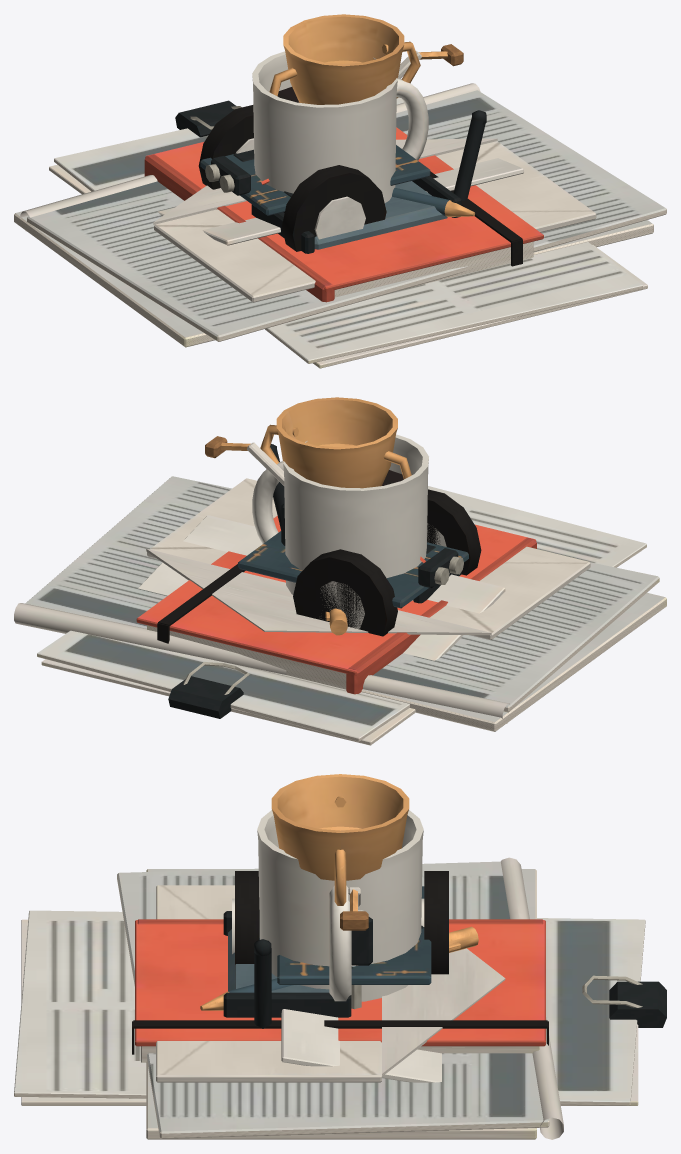
File: story-props.glb
The picture shows the model from 3 angles, top to bottom: view 1: azimuth 30°, elevation 25°; view 2: azimuth 150°, elevation 25°; view 3: azimuth 270°, elevation 25°; orthographic projection. The views are drawn at different scales.
Parts seen in each view (by area): view 1: prop-newspaper, prop-journal-paper, prop-notebook, prop-envelope, prop-mug, prop-robot, prop-trophy, prop-sdr; view 2: prop-newspaper, prop-journal-paper, prop-envelope, prop-notebook, prop-mug, prop-robot, prop-trophy, prop-sdr; view 3: prop-journal-paper, prop-newspaper, prop-notebook, prop-envelope, prop-mug, prop-trophy, prop-robot, prop-sdr.
Part boxes in pixels (x1,y1,x2,y2): prop-newspaper: (14, 83, 666, 347); prop-journal-paper: (49, 97, 647, 368); prop-notebook: (144, 127, 543, 302); prop-envelope: (153, 138, 596, 302); prop-mug: (252, 51, 428, 202); prop-robot: (198, 44, 463, 251); prop-trophy: (269, 14, 420, 104); prop-sdr: (251, 110, 486, 253); prop-newspaper: (14, 476, 666, 731); prop-journal-paper: (37, 486, 646, 745); prop-envelope: (138, 478, 590, 660); prop-notebook: (136, 515, 536, 694); prop-mug: (252, 434, 428, 600); prop-robot: (205, 436, 481, 636); prop-trophy: (260, 397, 411, 488); prop-sdr: (266, 444, 461, 603); prop-journal-paper: (14, 910, 666, 1105); prop-newspaper: (117, 857, 563, 1139); prop-notebook: (132, 919, 548, 1062); prop-envelope: (156, 885, 505, 1082); prop-mug: (257, 810, 423, 1001); prop-trophy: (271, 774, 409, 905); prop-robot: (232, 871, 448, 1009); prop-sdr: (223, 911, 351, 1028).
Size of the model in its own units: 0.3124 by 0.1135 by 0.3176.
Materials: 2 (2 with a texture image).
